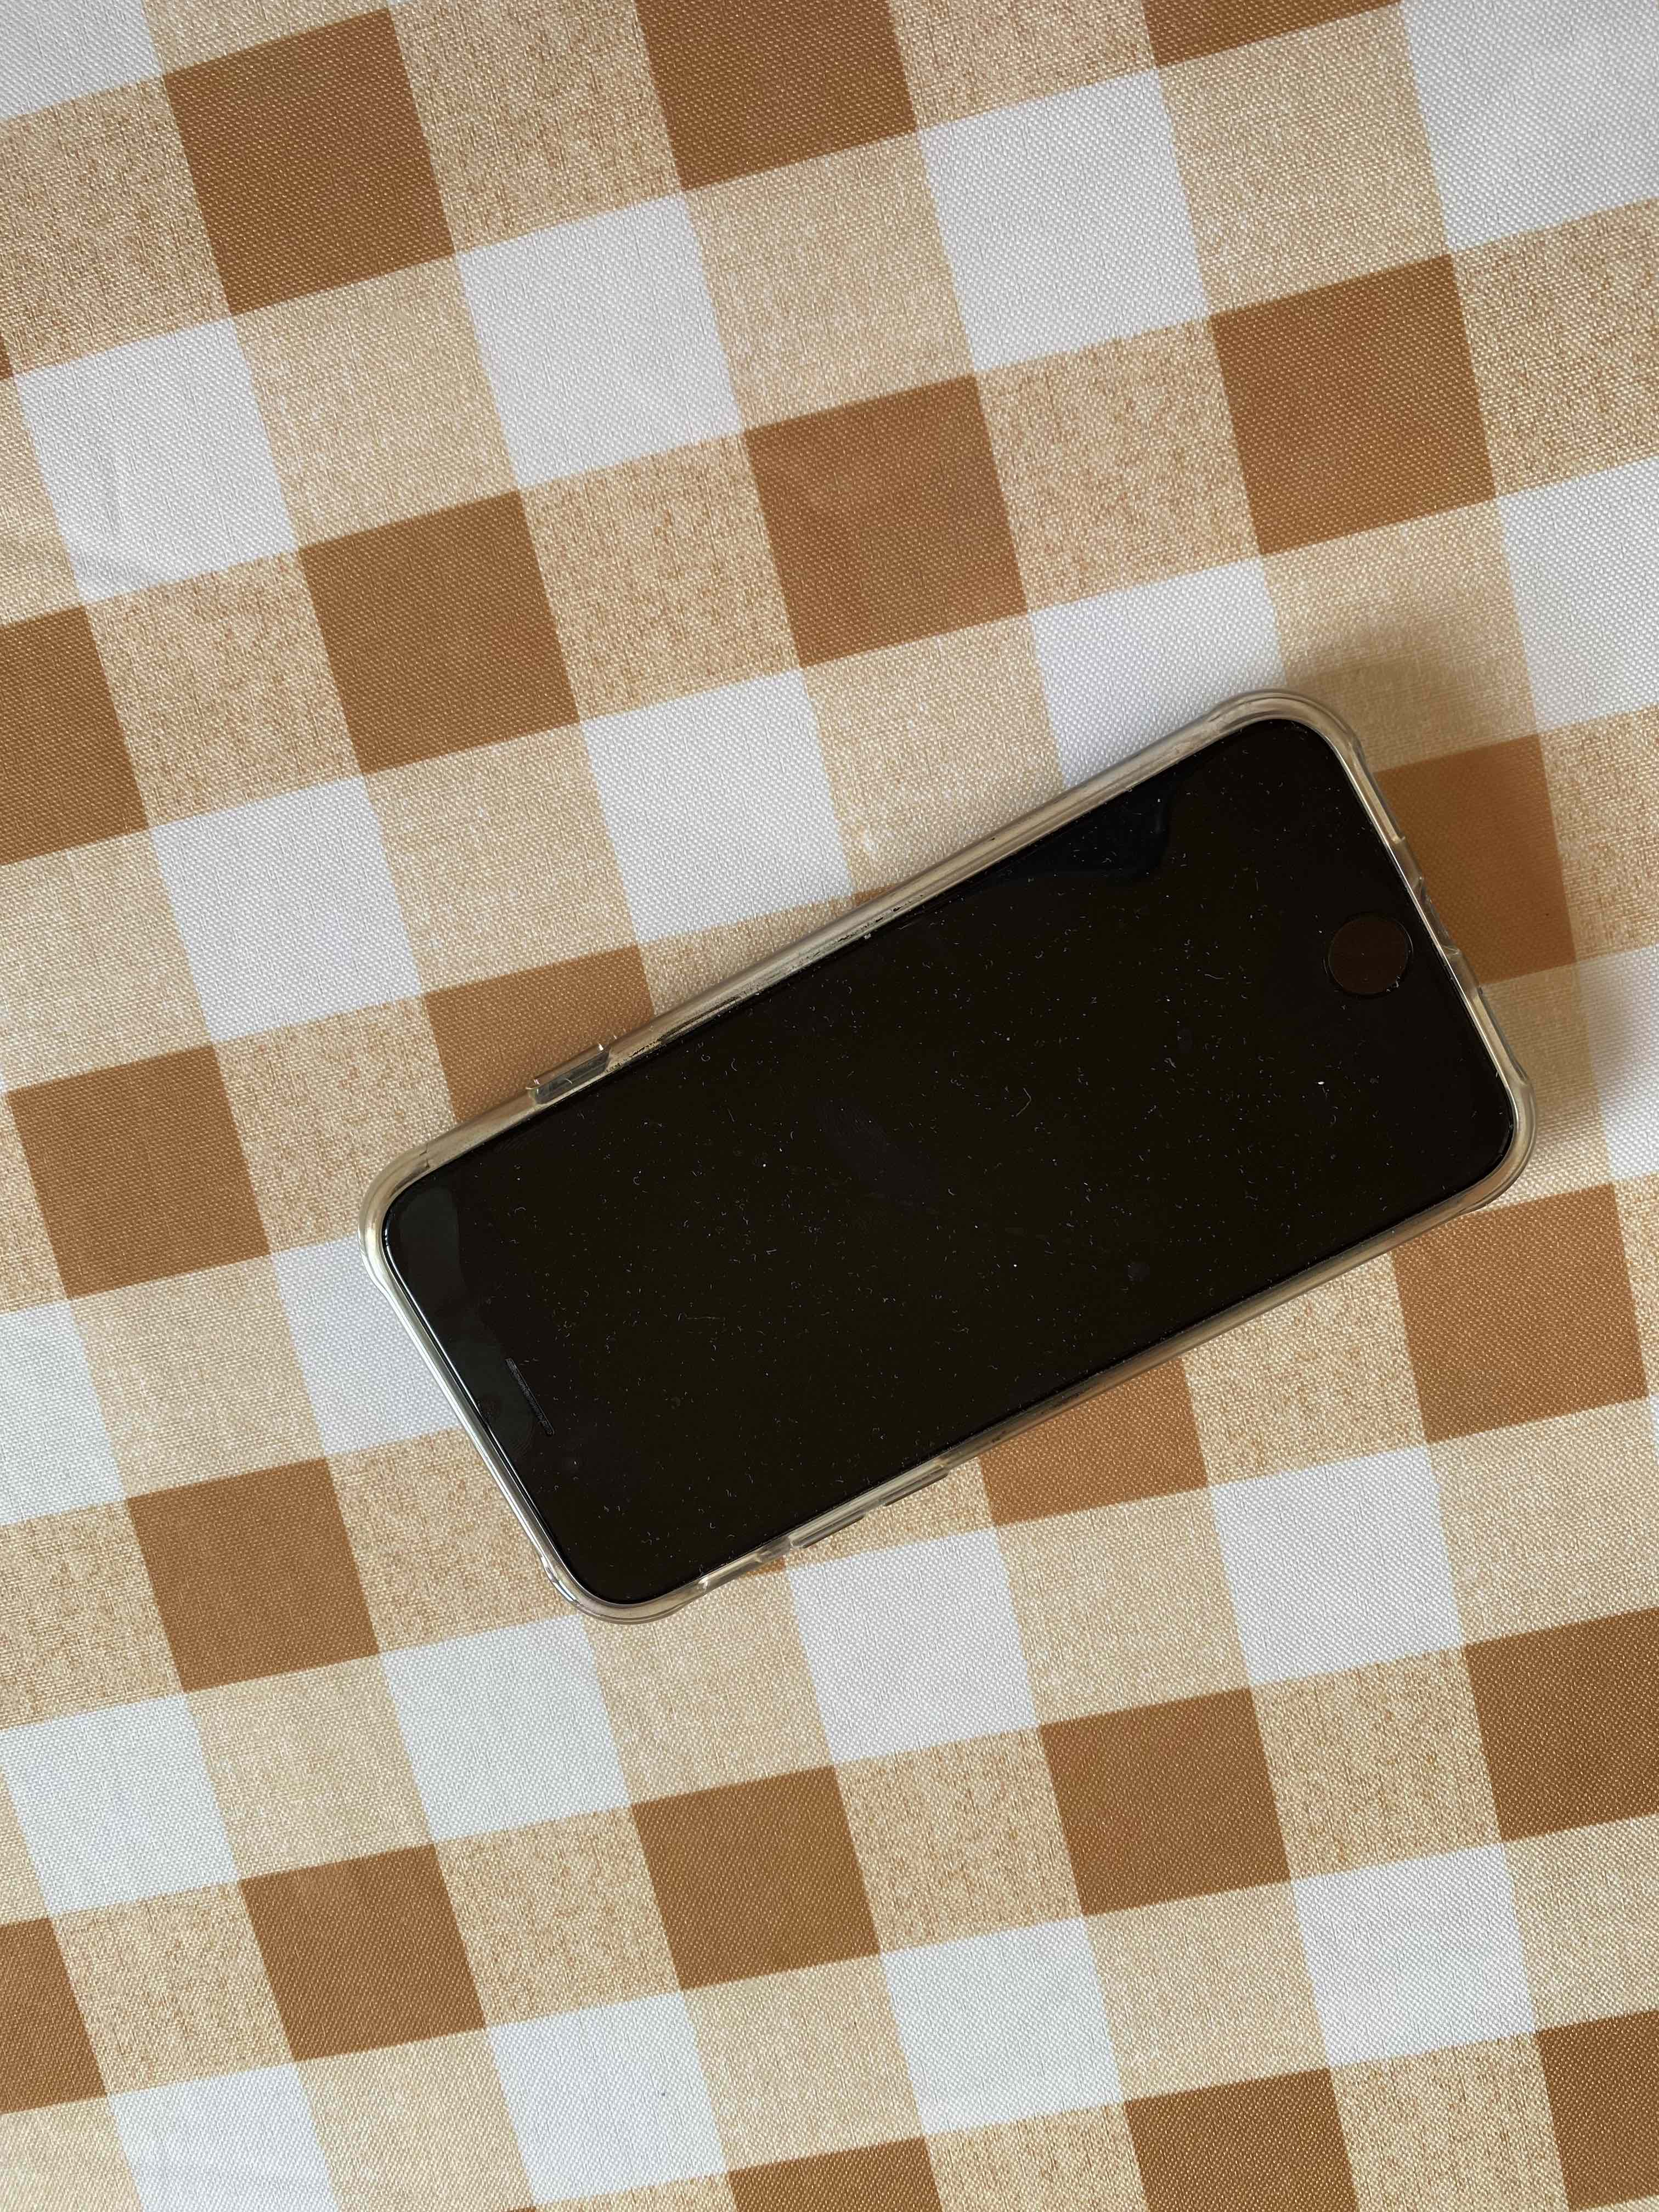Cell Phone: (342, 685, 1513, 1625)
